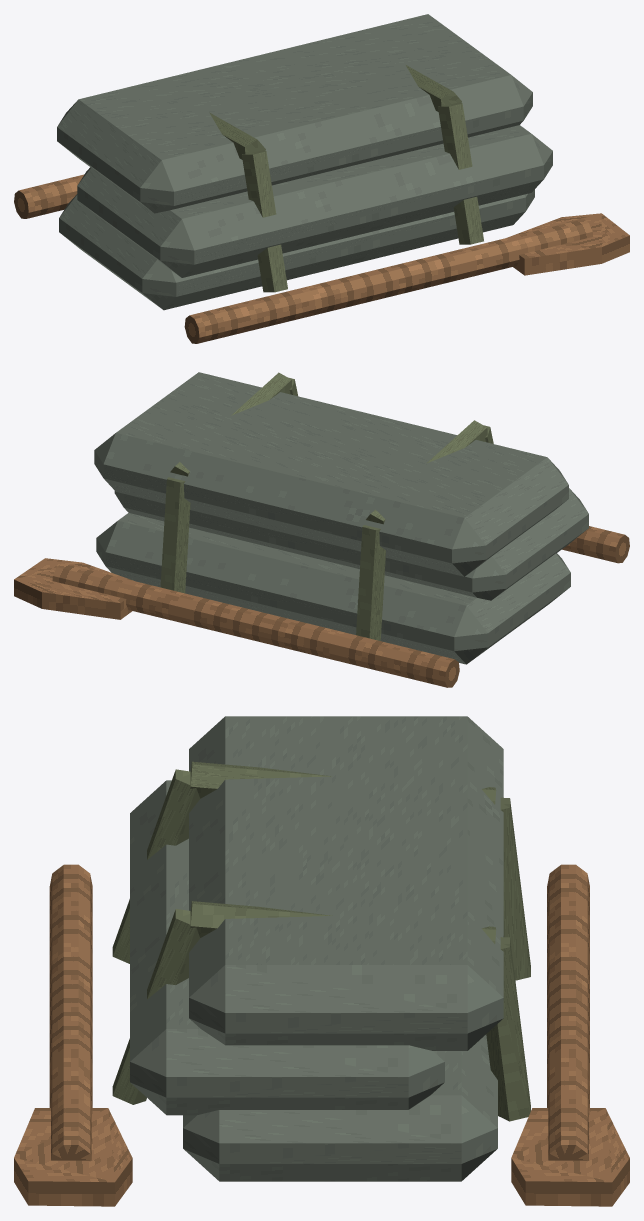
File: folded_inflatable_boat.glb
3 views of the same model, one above another, from view 1: azimuth 30°, elevation 25°; view 2: azimuth 150°, elevation 25°; view 3: azimuth 270°, elevation 25° (orthographic). The views are drawn at different scales.
Parts seen in each view (by area): view 1: block_compressed layers of rubber raft (×3), block_section of stowed oar (×2), block_packing strap 2 (×2), block_oar blade, block_packing strap 1 (×2); view 2: block_compressed layers of rubber raft (×3), block_section of stowed oar (×2), block_packing strap 0 (×2), block_oar blade, block_packing strap 1 (×2); view 3: block_compressed layers of rubber raft (×3), block_section of stowed oar (×2), block_oar blade (×2), block_packing strap 0 (×2), block_packing strap 2 (×2), block_packing strap 1 (×2).
Part boxes in pixels (x1,y1,x2,y2): block_compressed layers of rubber raft (×3): (57, 14, 552, 310); block_section of stowed oar (×2): (14, 174, 593, 343); block_packing strap 2 (×2): (242, 102, 483, 292); block_oar blade: (507, 213, 629, 275); block_packing strap 1 (×2): (209, 65, 461, 159); block_compressed layers of rubber raft (×3): (94, 372, 588, 664); block_section of stowed oar (×2): (52, 526, 629, 687); block_packing strap 0 (×2): (160, 477, 385, 640); block_oar blade: (14, 558, 133, 619); block_packing strap 1 (×2): (170, 372, 487, 524); block_compressed layers of rubber raft (×3): (130, 716, 503, 1181); block_section of stowed oar (×2): (49, 864, 589, 1160); block_oar blade (×2): (14, 1108, 629, 1206); block_packing strap 0 (×2): (486, 797, 530, 1121); block_packing strap 2 (×2): (112, 769, 200, 1104); block_packing strap 1 (×2): (190, 761, 496, 943).
Bounding box in the file's own units: 0.3739 × 0.132 × 0.3223.
Materials: 1 (1 with a texture image).
